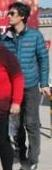boots: (20, 159, 38, 170)
hard-hat: (0, 59, 12, 82)
